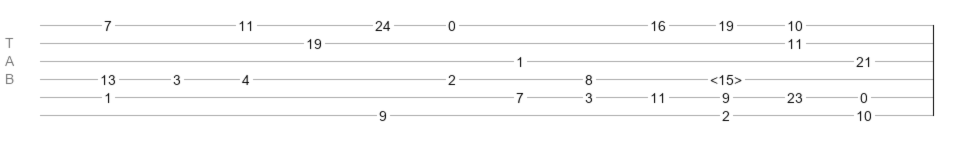0: (448, 18, 456, 28), (860, 90, 868, 100)
1: (104, 90, 112, 100), (516, 54, 524, 64)
10: (787, 18, 803, 28), (856, 108, 872, 118)
11: (238, 18, 254, 28), (650, 90, 666, 100), (787, 36, 803, 46)
13: (100, 72, 116, 82)
16: (650, 18, 666, 28)
19: (306, 36, 322, 46), (718, 18, 734, 28)
2: (448, 72, 456, 82), (722, 108, 730, 118)
21: (856, 54, 872, 64)
23: (787, 90, 803, 100)
24: (375, 18, 391, 28)
3: (173, 72, 181, 82), (585, 90, 593, 100)
4: (242, 72, 250, 82)
7: (104, 18, 112, 28), (516, 90, 524, 100)
8: (585, 72, 593, 82)
9: (379, 108, 387, 118), (722, 90, 730, 100)
harmonic: (710, 72, 742, 82)
